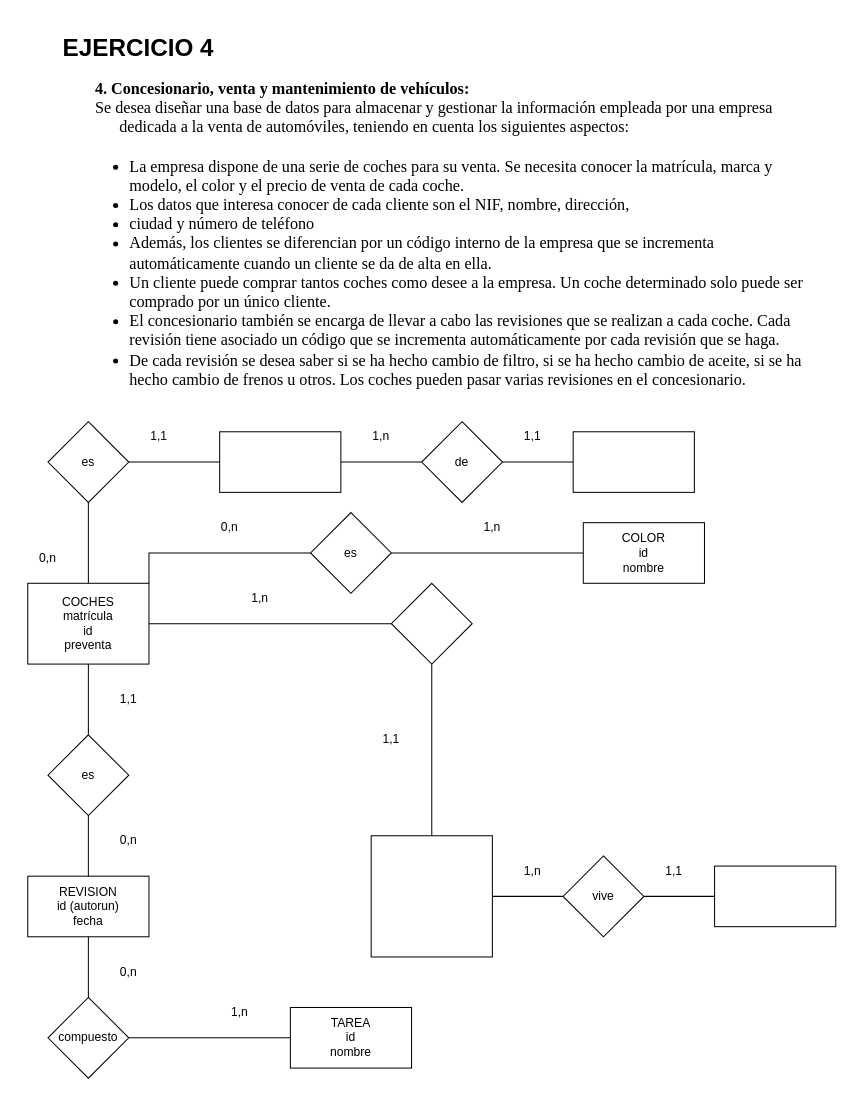
Some shapes in this 853 by 1096 pixel diagram are drawn without their labels. Here are the shapes that lost their labels. From the top down, the centre of each, then its label:
the point at 280,461: MODELO id nombre
the point at 633,461: MARCA id nombre
the point at 431,623: compra
the point at 431,896: CLIENTES nif nombre apellido1 apeliido2(op) direccion telefono id (autorun)
the point at 775,896: CIUDAD nombre
